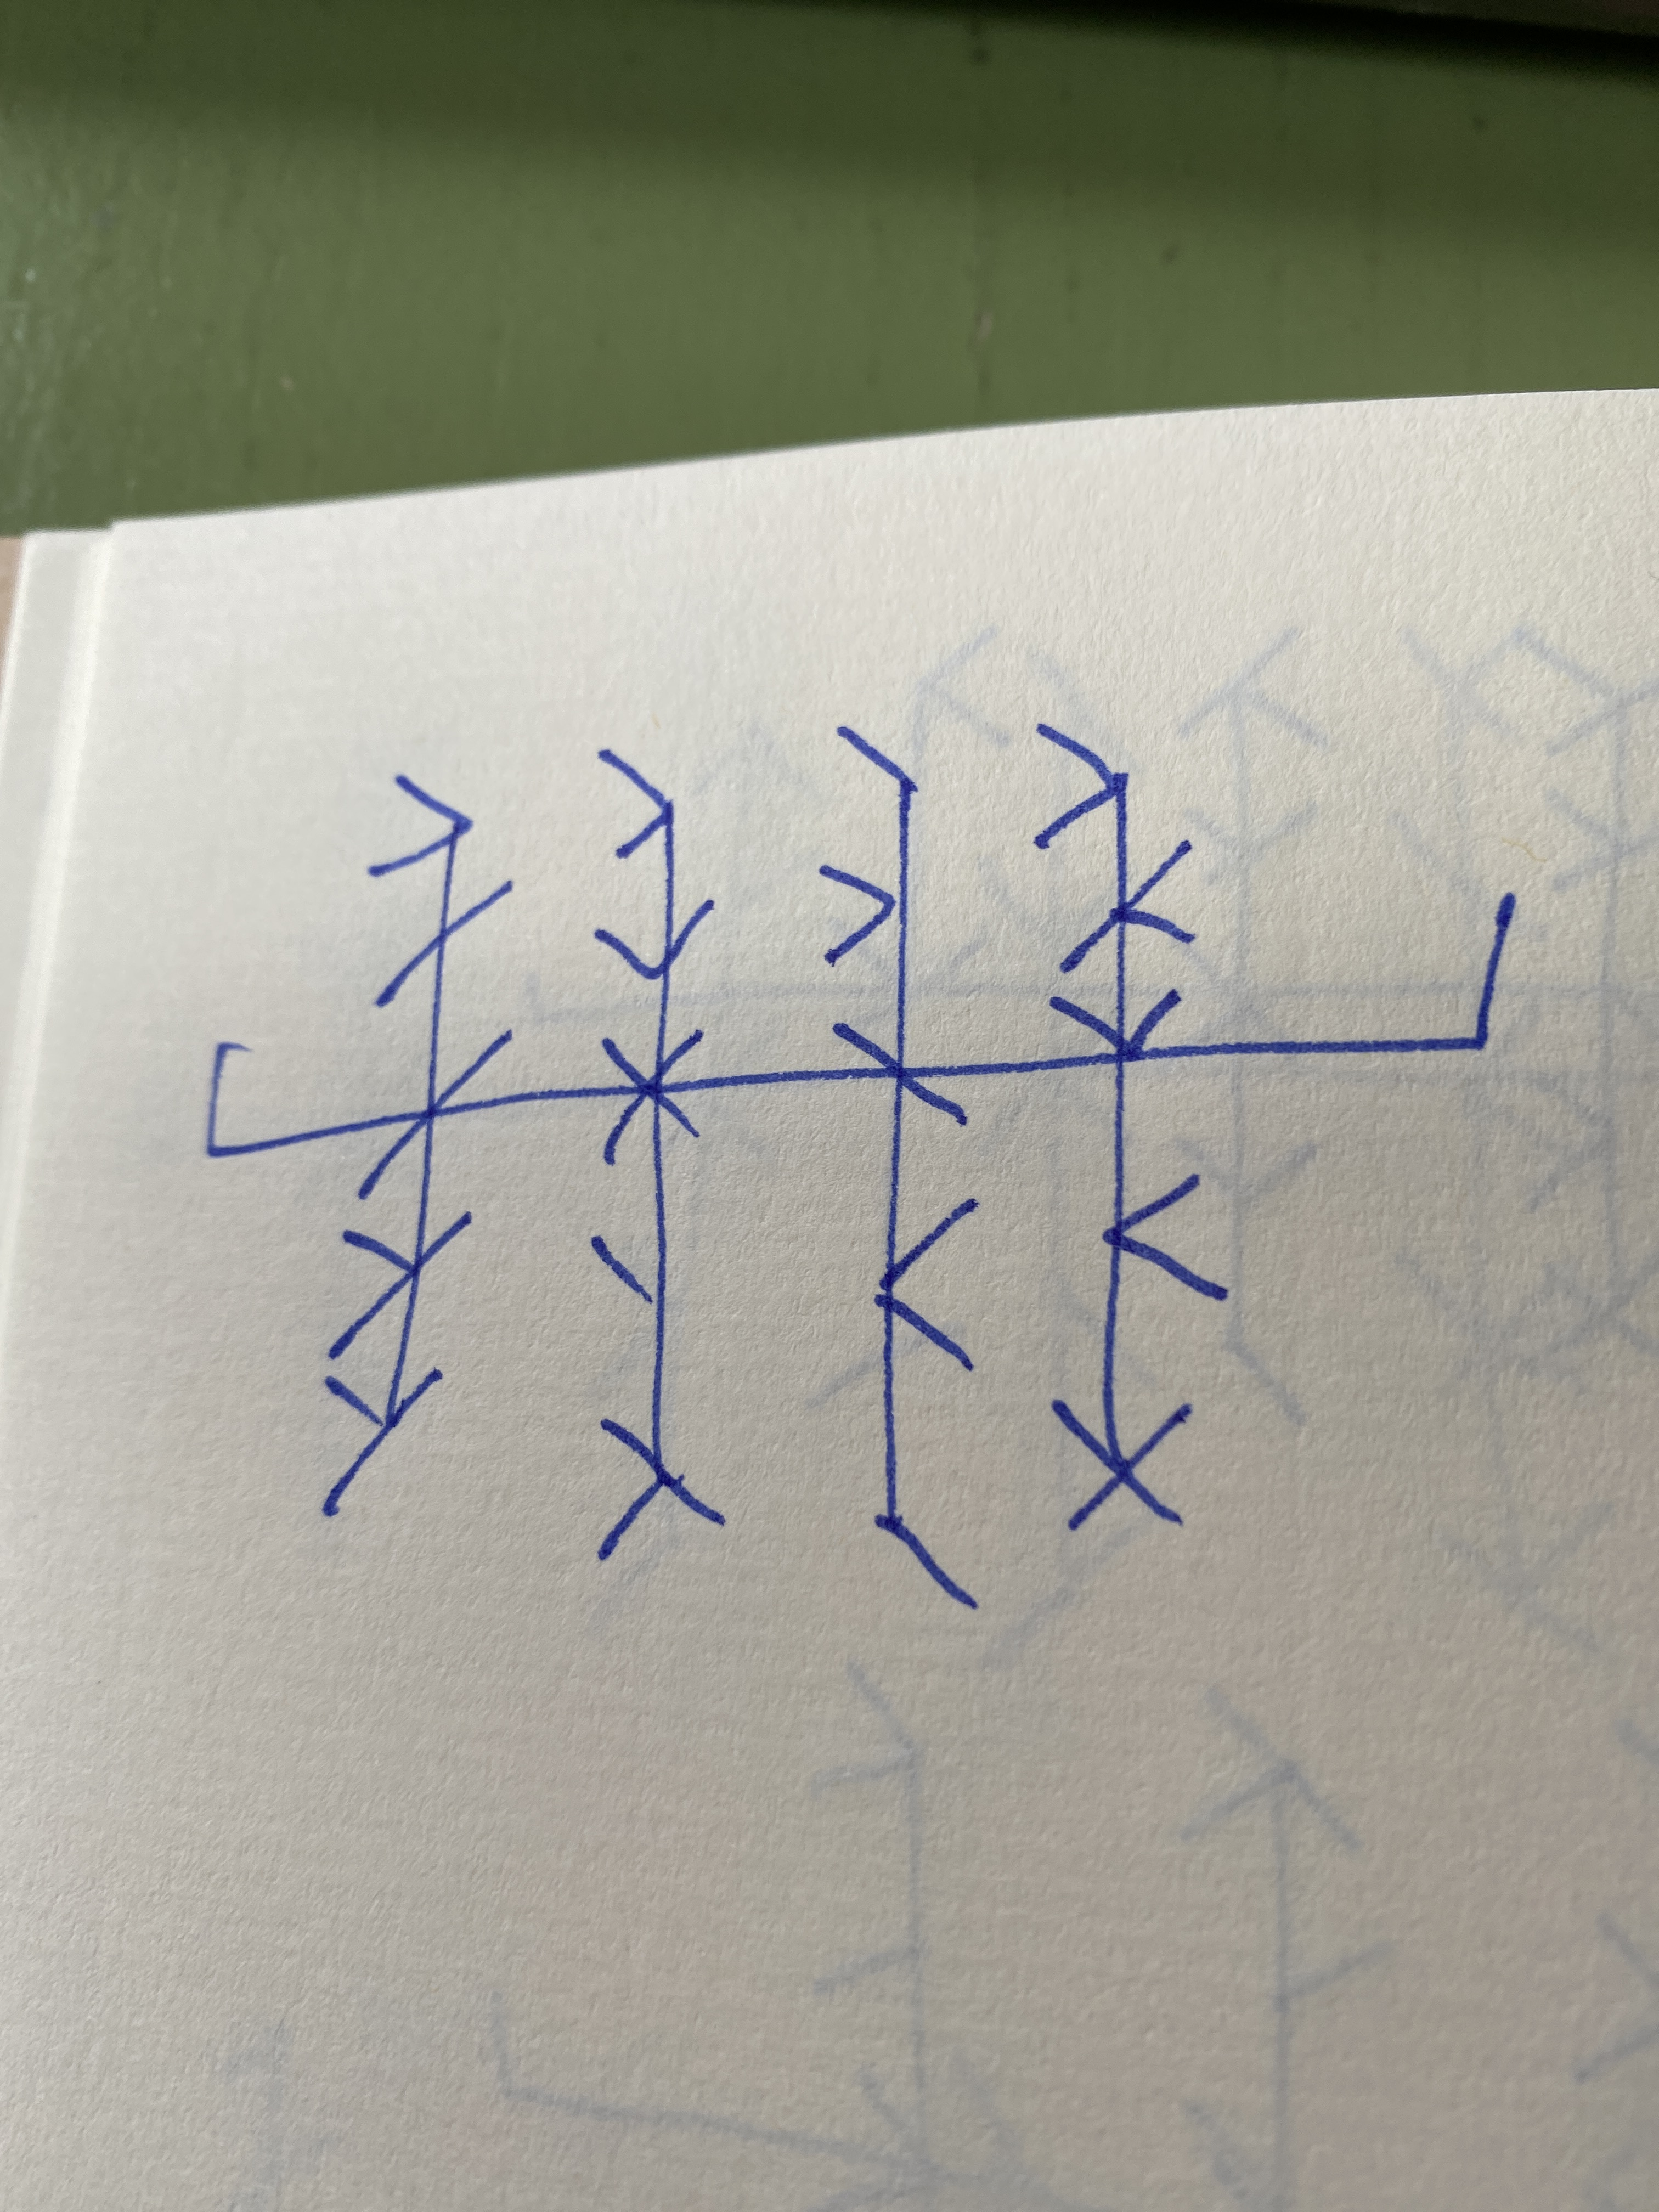Bar: (1033, 723, 1230, 1534), (817, 721, 983, 1615), (321, 773, 516, 1514), (591, 745, 727, 1561)
Barcode: (202, 721, 1518, 1615)
End: (1197, 892, 1518, 1057)
Start: (204, 1038, 380, 1158)
